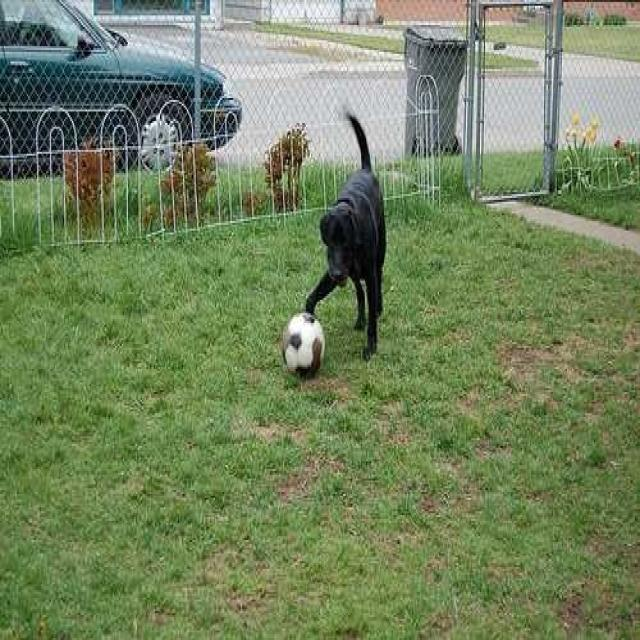ball: (282, 313, 324, 378)
